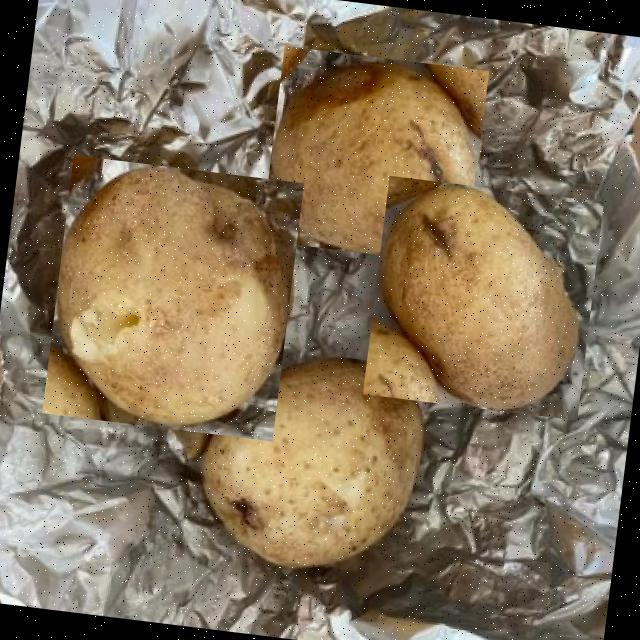Potato: (40, 154, 302, 440), (186, 343, 444, 590), (362, 175, 602, 420), (260, 46, 488, 266)
